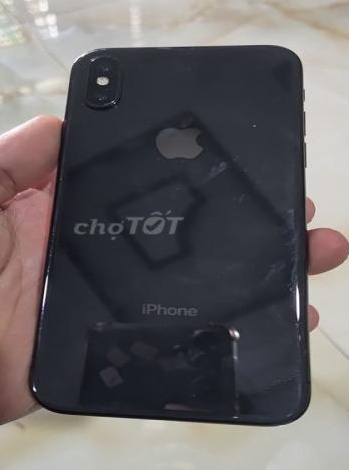scratch: (210, 152, 301, 360), (33, 168, 71, 301), (224, 110, 270, 137), (105, 49, 135, 78), (19, 378, 53, 401), (103, 91, 132, 117), (172, 57, 200, 74)
